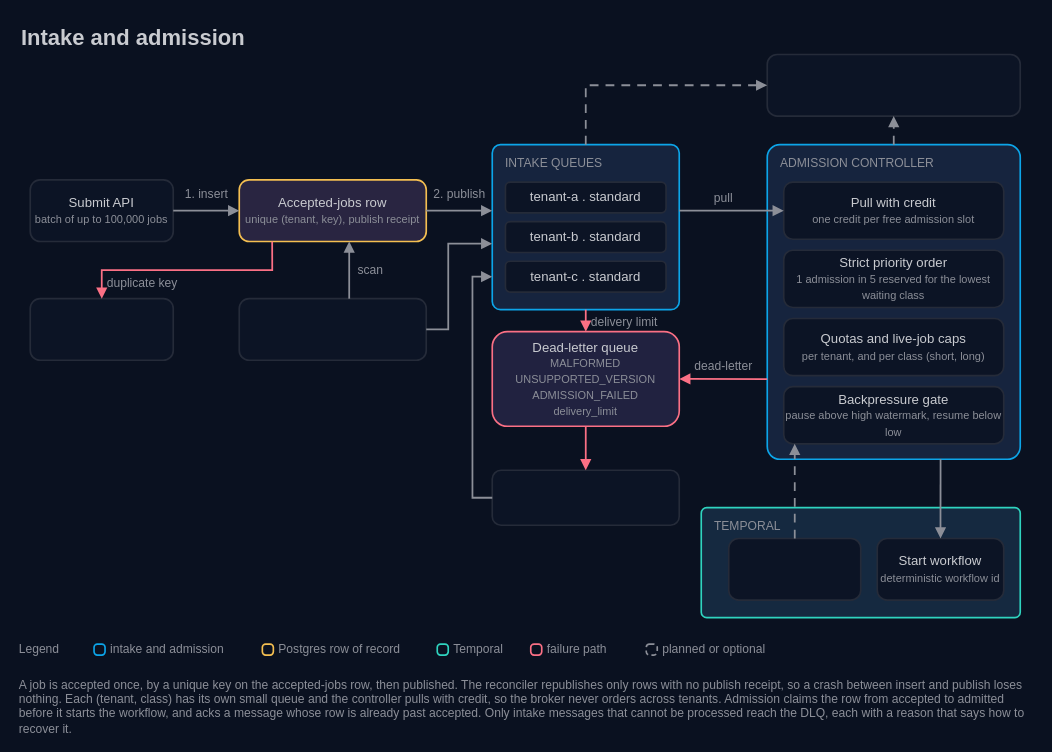
Image size: 1052x752. Some labels were removed from this diagram. The centre of each missing label's shape, as x and y in pixels:
Metrics queue and DLQ depth, admits, rejects, wait time: (893,84)
Reconciler republishes rows with no publish receipt: (332,329)
Replay tool operator republishes, upgraded: (585,497)
Return existing job key already accepted: (101,329)
Task queue depth layer 2 backlog: (794,568)
